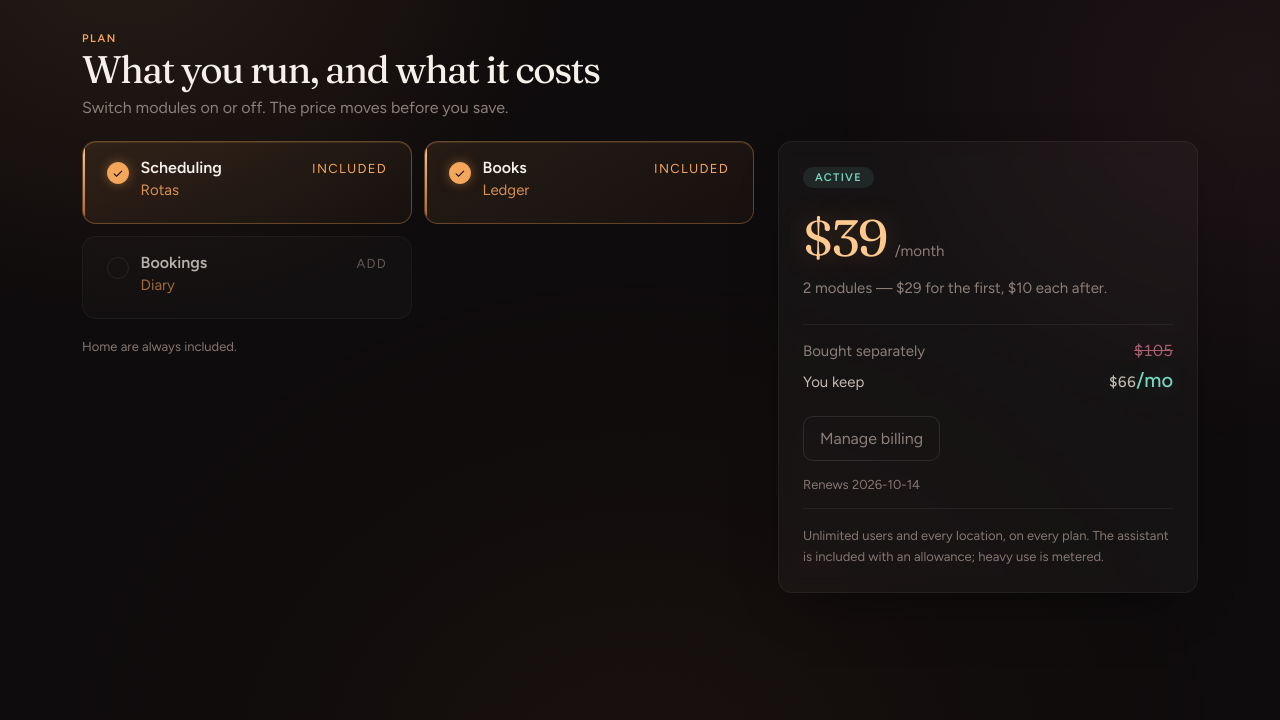
Test: choosing modules › reset puts the toggles back to what is saved
Expected: the text "$39" is shown, [803,212,887,264]
Click the button "Bookings add Diary" at (174, 263), box [82,236,412,320]
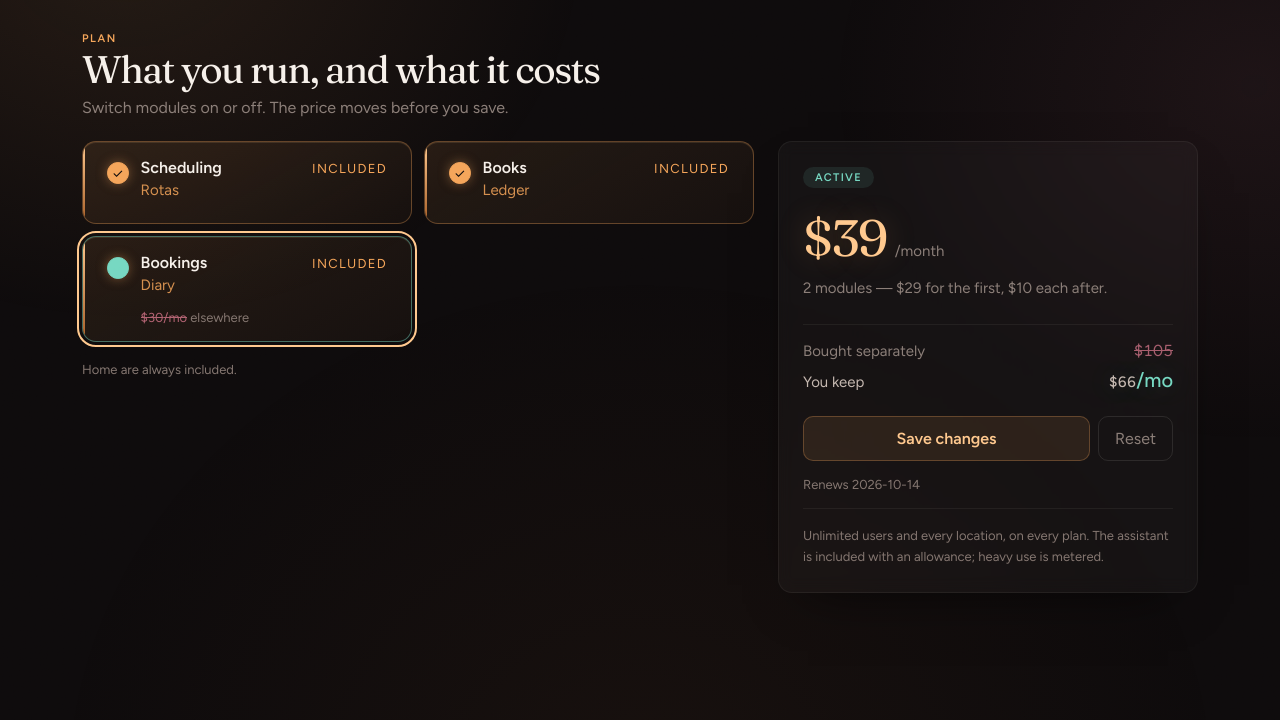
Click the button "Reset" at (1136, 438), box [1098,416,1173,461]
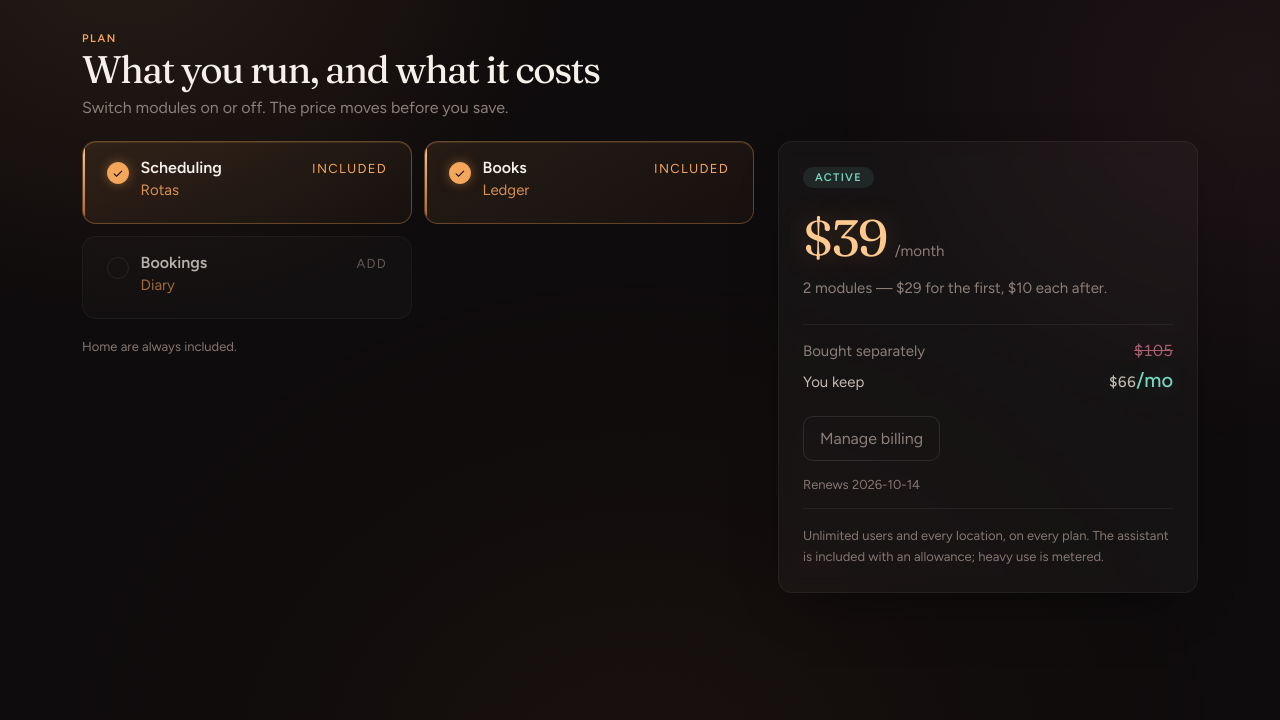
Result: the button "Save changes" is gone
